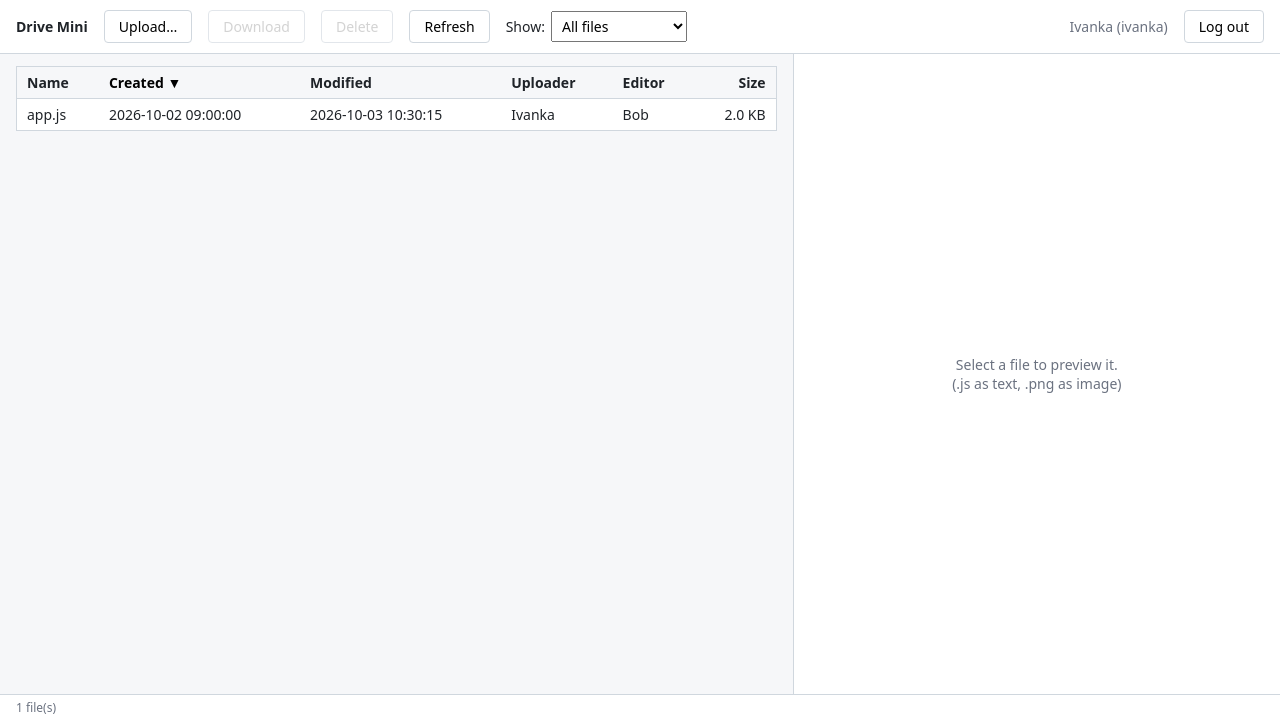
Scenario: Download hands the file to the browser under its real name
Click the text "app.js" at {"x": 58, "y": 114}, box x1=16 y1=98 x2=99 y2=130
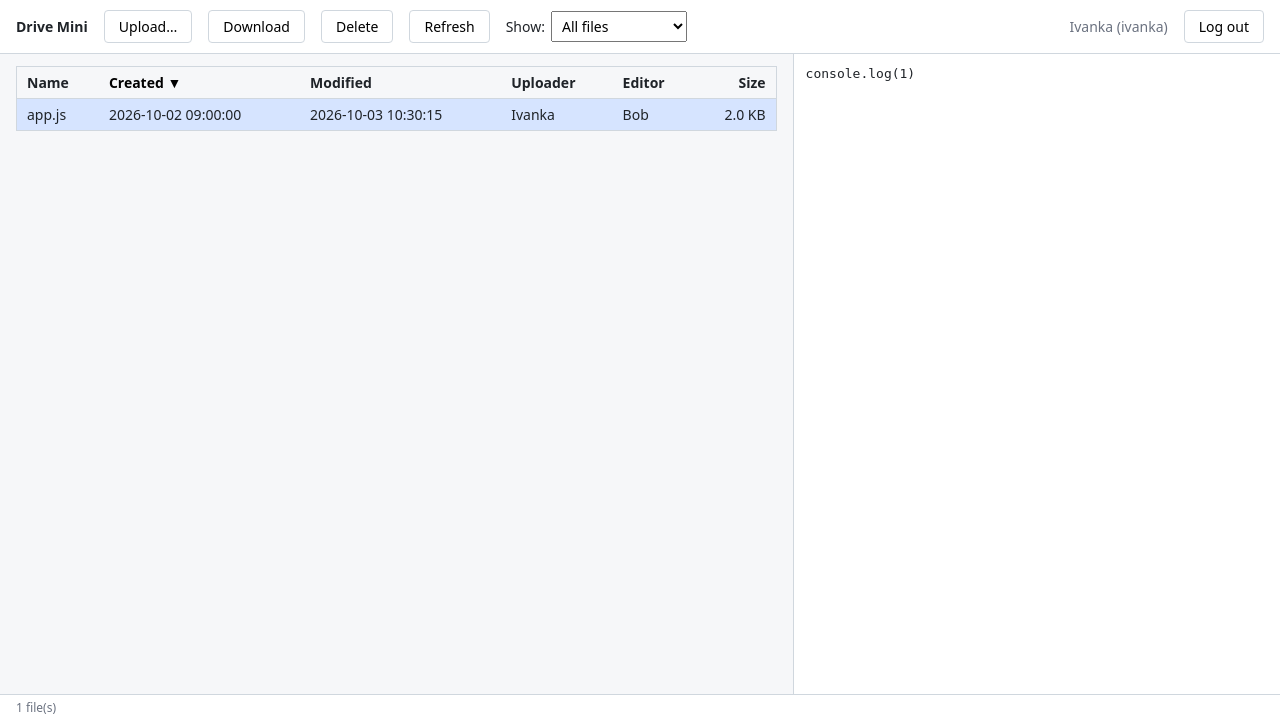
Click the button "Download" at {"x": 257, "y": 26}, box x1=208 y1=10 x2=305 y2=43
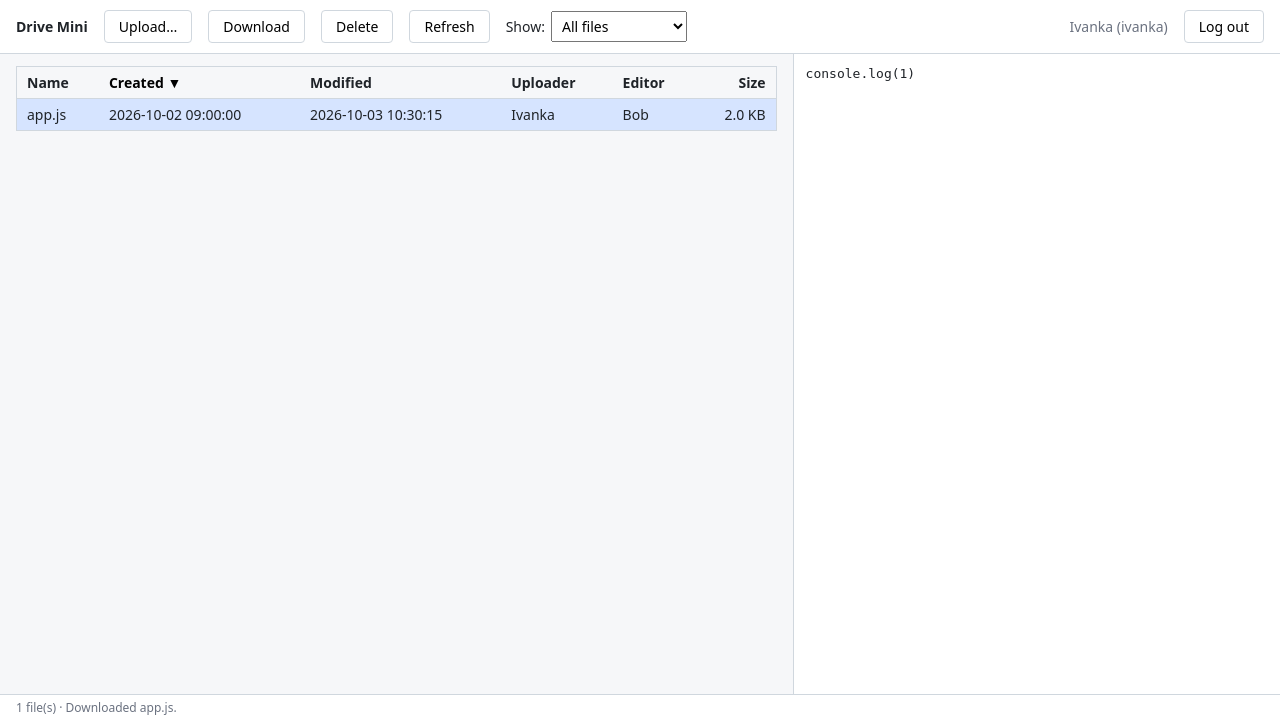
Expected: the text "app.js" is shown, x1=16 y1=98 x2=99 y2=130
Result: the text "1 file(s) · Downloaded app.js." is shown at x1=0 y1=694 x2=1279 y2=719
